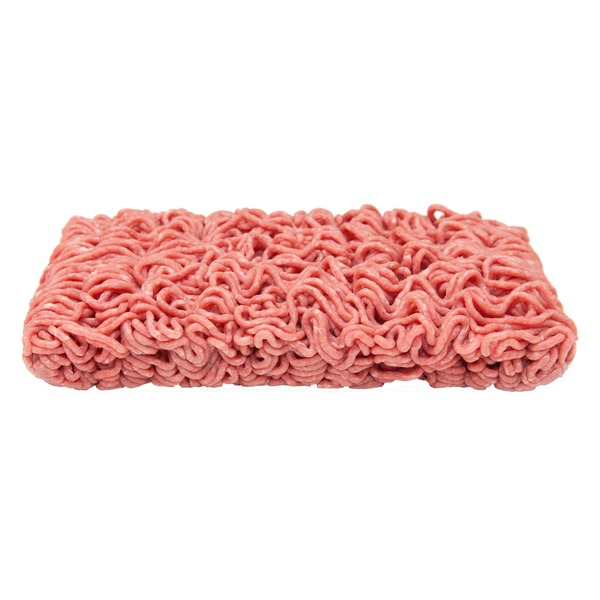ground_beef: (16, 210, 567, 402)
